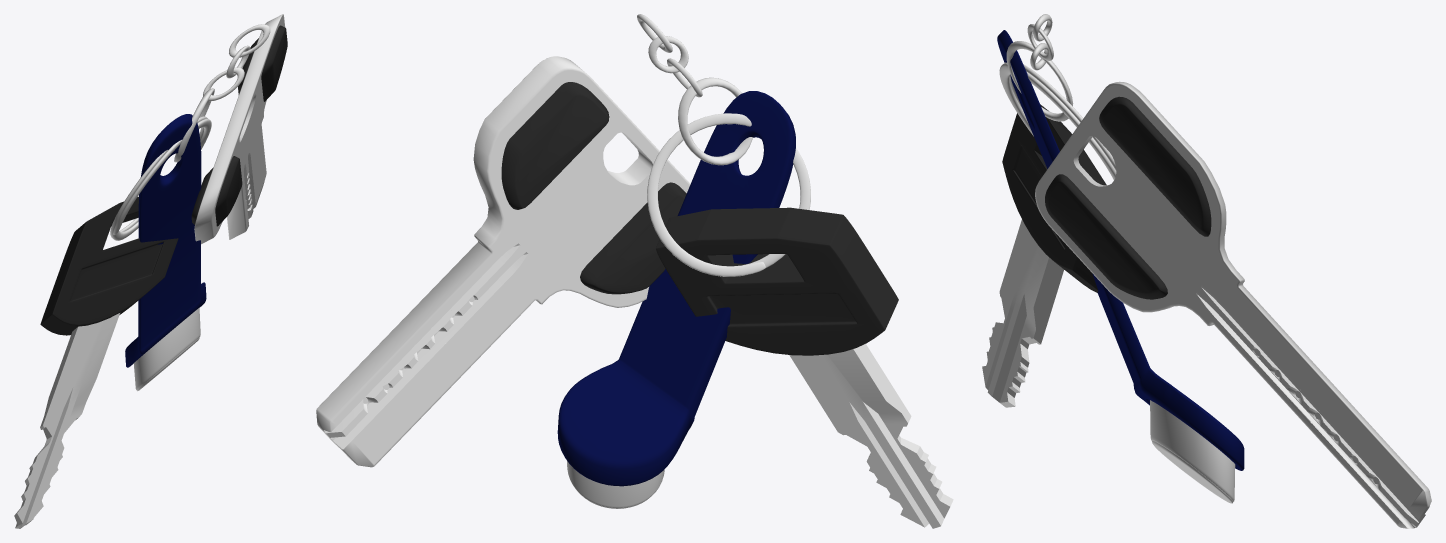
Rendered from O_I_TubeKey_2.fbx.
3 views of the same model, side by side, from view 1: azimuth 30°, elevation 25°; view 2: azimuth 150°, elevation 25°; view 3: azimuth 270°, elevation 25° (orthographic). The views are drawn at different scales.
Parts seen in each view (by area): view 1: domofon, keybase, key_big, key, cap, ring.003, ring, ring.006, ring.004; view 2: key_big, domofon, keybase, key, ring.003, cap, ring; view 3: key_big, key, domofon, keybase, cap, ring.003, ring.
Boxes of the visible parts, x1,y1,x2,y2 form: domofon: (125,114,206,367); keybase: (40,196,178,335); key_big: (191,14,287,244); key: (14,313,119,528); cap: (133,307,200,391); ring.003: (110,116,211,240); ring: (174,88,214,162); ring.006: (229,24,270,57); ring.004: (203,67,244,101); key_big: (316,56,690,467); domofon: (557,91,795,486); keybase: (656,207,898,355); key: (789,343,953,528); ring.003: (647,113,810,276); cap: (567,461,664,508); ring: (678,77,752,165); key_big: (1035,81,1431,528); key: (982,219,1063,407); domofon: (997,30,1244,470); keybase: (1002,104,1106,292); cap: (1150,400,1235,503); ring.003: (999,62,1116,179); ring: (1006,41,1073,121).
Size of the model in its own units: 77.59 by 75.37 by 56.18.
